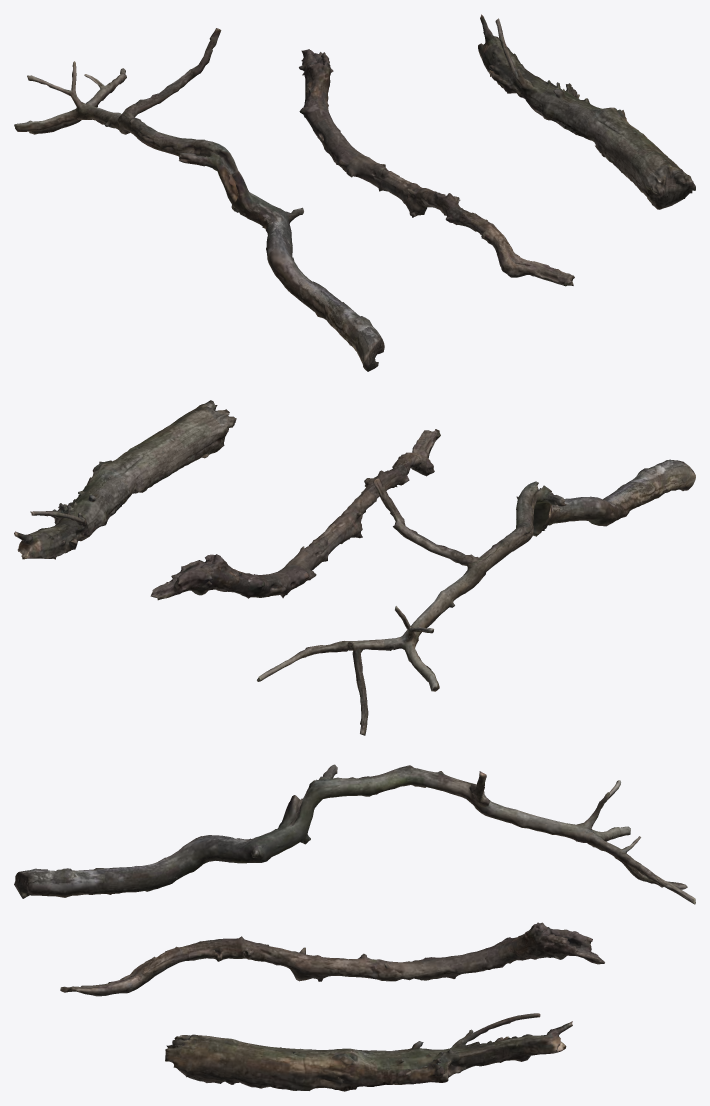
Rendered from dry_branches_medium_01.glb.
3 renders of one model, top to bottom at view 1: azimuth 30°, elevation 25°; view 2: azimuth 150°, elevation 25°; view 3: azimuth 270°, elevation 25°, orthographic. The views are drawn at different scales.
Parts seen in each view (by area): view 1: dry_branches_medium_01_a, dry_branches_medium_01_c, dry_branches_medium_01_b; view 2: dry_branches_medium_01_a, dry_branches_medium_01_c, dry_branches_medium_01_b; view 3: dry_branches_medium_01_a, dry_branches_medium_01_c, dry_branches_medium_01_b.
Boxes of the visible parts, x1,y1,x2,y2 form: dry_branches_medium_01_a: (14,28,384,371); dry_branches_medium_01_c: (478,14,695,209); dry_branches_medium_01_b: (299,49,574,286); dry_branches_medium_01_a: (257,459,695,735); dry_branches_medium_01_c: (14,400,236,559); dry_branches_medium_01_b: (150,429,440,600); dry_branches_medium_01_a: (14,764,695,904); dry_branches_medium_01_c: (165,1013,572,1091); dry_branches_medium_01_b: (60,922,604,996).
Bounding box in the file's own units: 1.06 × 0.341 × 1.3.
1 material, 1 textured.
